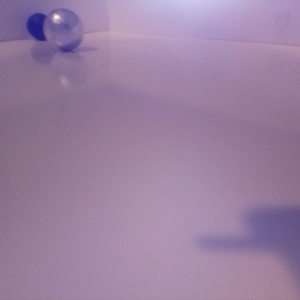alive_ball: (44, 8, 83, 51)
dead_ball: (27, 12, 50, 41)
